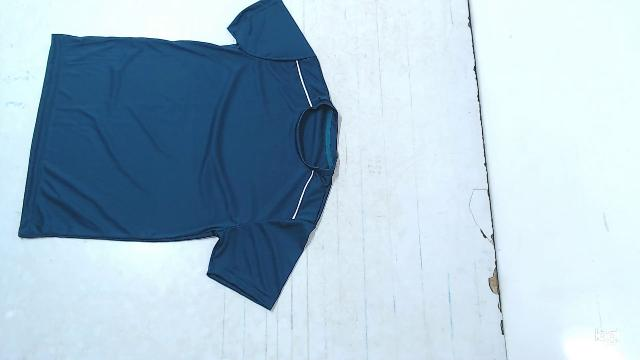new-garment: (19, 0, 338, 309)
